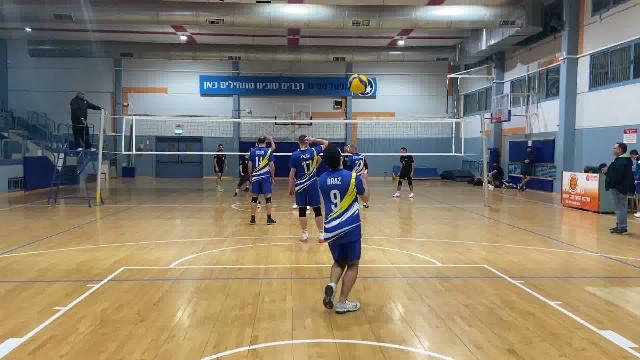ball: (345, 75, 371, 96)
